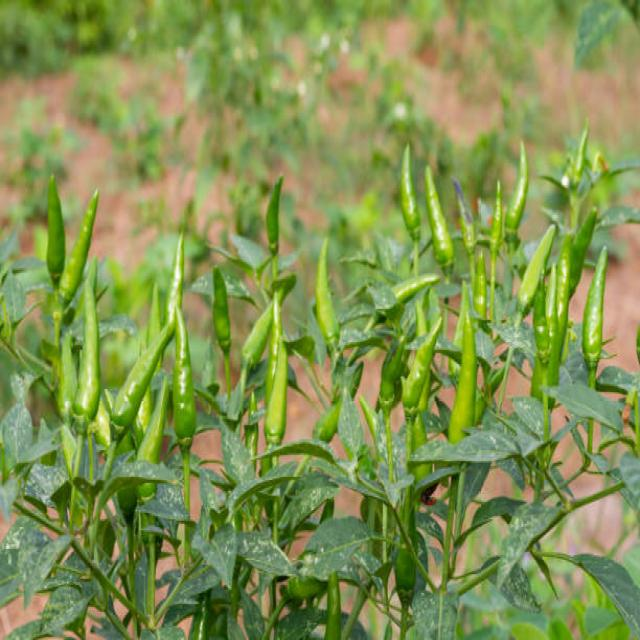Unripe: (111, 321, 174, 428), (59, 189, 98, 305), (74, 272, 101, 425), (402, 317, 442, 419), (449, 313, 478, 443), (548, 234, 571, 385), (518, 225, 556, 316), (172, 306, 196, 447), (582, 248, 606, 387), (425, 165, 454, 277), (138, 377, 169, 462), (264, 338, 288, 445), (212, 266, 231, 397), (46, 176, 65, 284), (401, 142, 420, 235), (59, 332, 78, 423)
